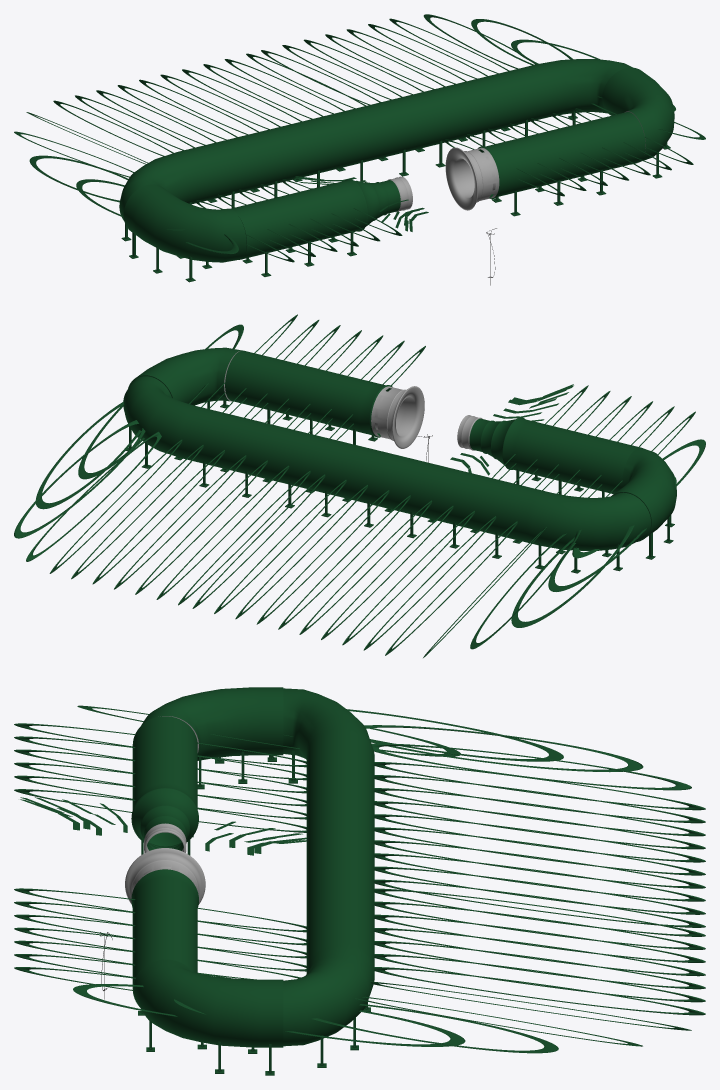
File: FD_zhuti+jiguang.FBX
3 views of the same model, one above another, from view 1: azimuth 30°, elevation 25°; view 2: azimuth 150°, elevation 25°; view 3: azimuth 270°, elevation 25° (orthographic). The views are drawn at different scales.
Visible parts, largest first — view 1: Cylinder121, Box918, Fedong_zhuti, right_pinghua; view 2: Cylinder121, Box918, Fedong_zhuti, right_pinghua; view 3: Cylinder121, Box918, Fedong_zhuti, right_pinghua.
Boxes of the visible parts, <box> form: Cylinder121: <box>119,59,674,262</box>; Box918: <box>14,14,705,262</box>; Fedong_zhuti: <box>121,110,670,282</box>; right_pinghua: <box>445,147,495,210</box>; Cylinder121: <box>123,347,676,550</box>; Box918: <box>14,314,705,657</box>; Fedong_zhuti: <box>126,398,674,573</box>; right_pinghua: <box>375,386,424,448</box>; Cylinder121: <box>131,687,374,1047</box>; Box918: <box>14,705,705,1053</box>; Fedong_zhuti: <box>138,750,370,1075</box>; right_pinghua: <box>125,848,205,904</box>.
Size of the model in its own units: 6859 by 1476 by 6215.
